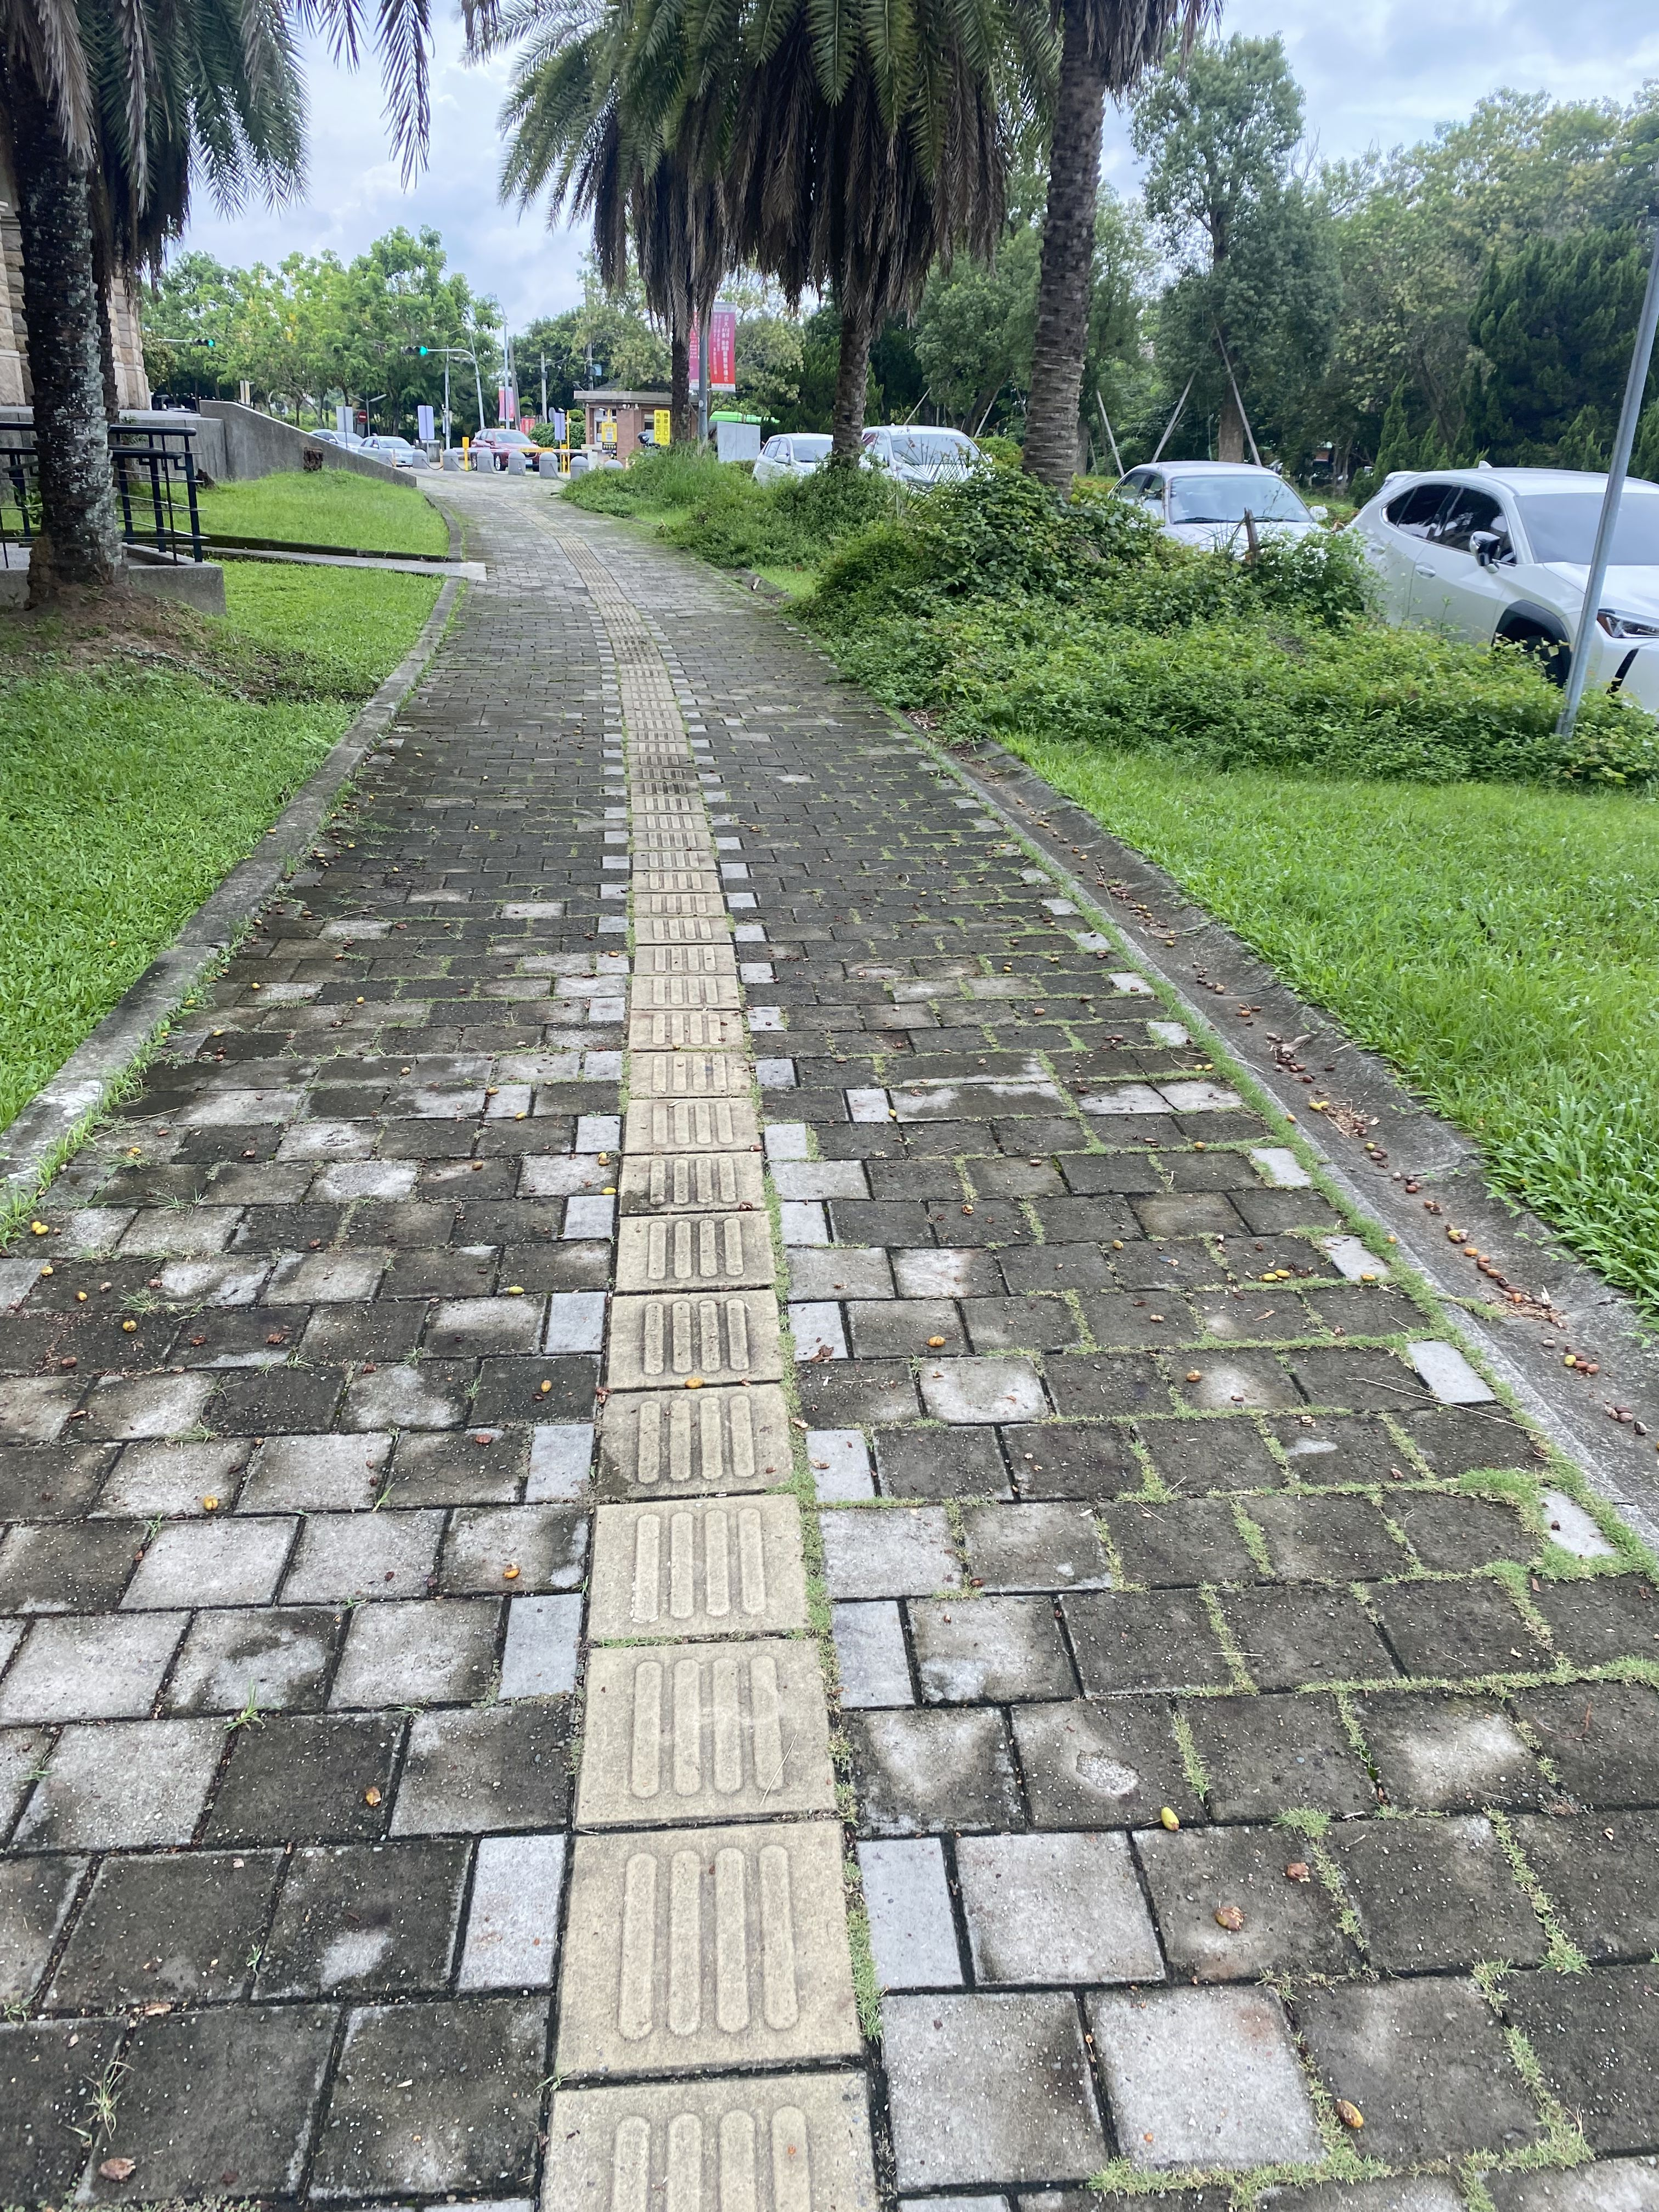0: (7, 738, 1659, 2212)
sidewalk: (408, 428, 955, 1489)
